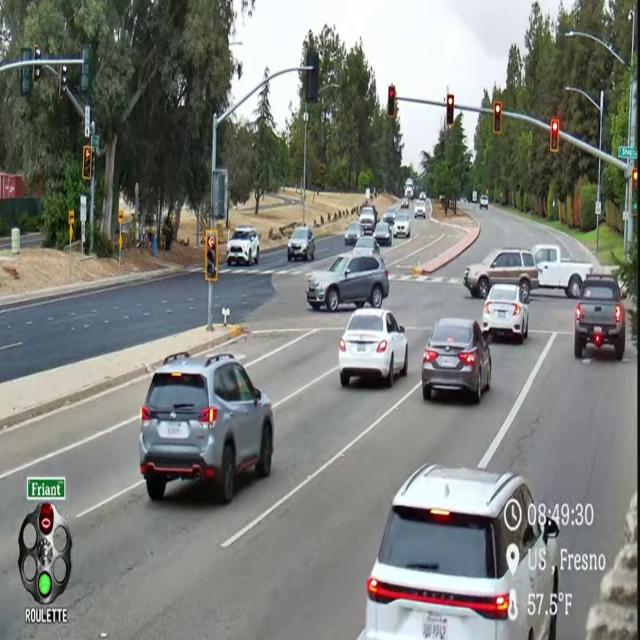car: (364, 464, 561, 639), (139, 352, 274, 503), (422, 318, 491, 403), (339, 309, 407, 386), (307, 254, 389, 311), (463, 248, 539, 303), (482, 284, 528, 343), (227, 226, 259, 265), (287, 227, 315, 261), (353, 236, 379, 255), (359, 207, 377, 234), (373, 221, 392, 246), (393, 211, 410, 238), (345, 221, 362, 246), (383, 209, 396, 227), (414, 200, 426, 219), (480, 195, 488, 210), (401, 197, 409, 208), (419, 192, 426, 200)
traffic signal: (204, 229, 218, 283), (306, 49, 320, 103), (81, 45, 92, 97), (82, 145, 93, 181), (20, 66, 32, 96), (550, 119, 559, 153), (387, 85, 396, 119), (59, 65, 68, 99), (493, 101, 502, 135), (446, 94, 454, 127), (632, 168, 637, 216), (32, 64, 41, 82), (632, 168, 637, 189)
truck: (574, 275, 625, 359), (532, 245, 593, 298), (404, 178, 414, 200)
